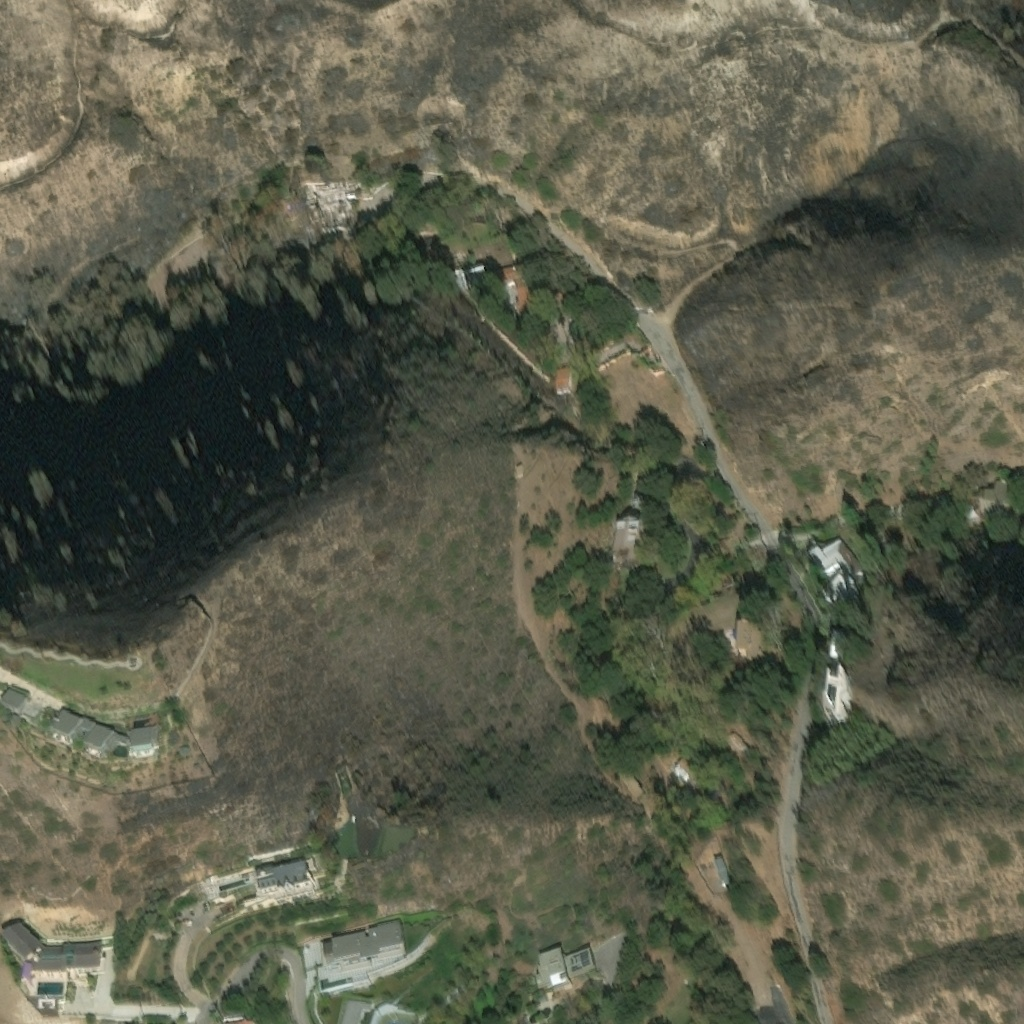0 no-damage: (1, 920, 106, 1001), (496, 247, 564, 311), (808, 531, 868, 601), (331, 921, 407, 965), (197, 868, 255, 906), (256, 857, 314, 895), (821, 666, 855, 725), (0, 683, 47, 725), (48, 709, 97, 749), (609, 516, 645, 567), (451, 255, 494, 293), (531, 951, 570, 992), (82, 725, 121, 762), (564, 949, 599, 982), (982, 474, 1009, 515), (298, 933, 326, 969), (128, 730, 161, 756), (341, 1000, 374, 1023), (828, 633, 845, 667)
3 destroyed: (280, 178, 360, 231)
